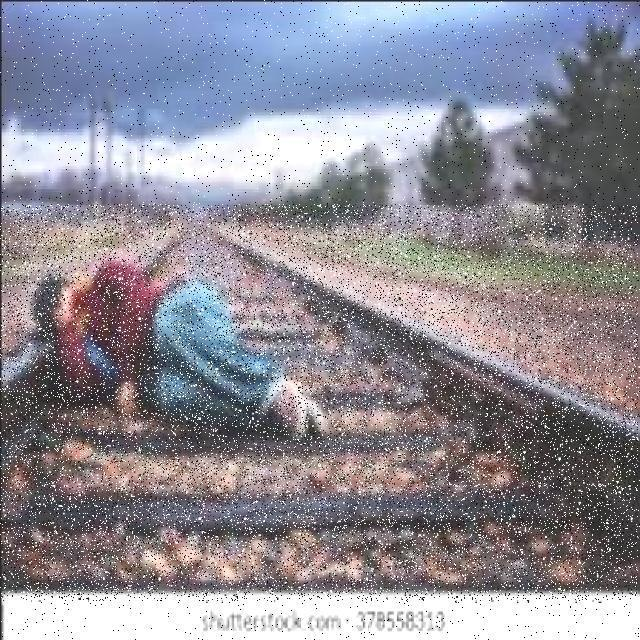danger: (28, 265, 318, 452)
rail: (1, 205, 638, 601)
